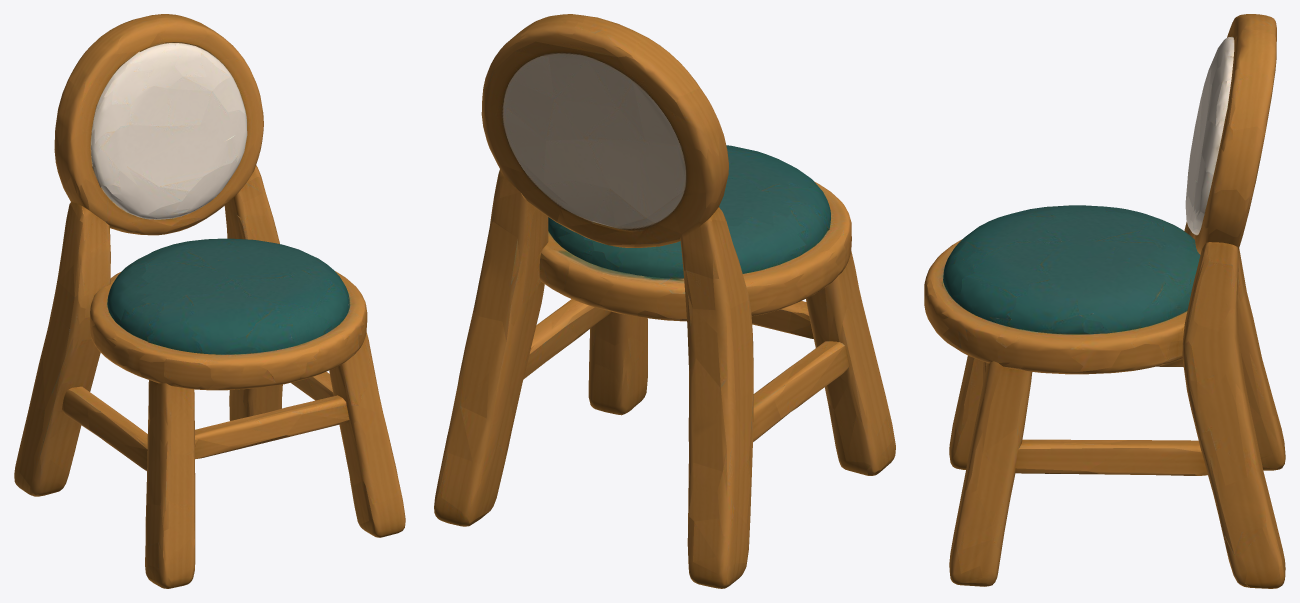
The model's file is banquetChair.glb.
3 views of the same model, side by side, from view 1: azimuth 30°, elevation 25°; view 2: azimuth 150°, elevation 25°; view 3: azimuth 270°, elevation 25° (orthographic). The views are drawn at different scales.
Parts seen in each view (by area): view 1: Mesh_0; view 2: Mesh_0; view 3: Mesh_0.
Boxes of the visible parts, bbox=[...] form: Mesh_0: bbox=[14, 14, 405, 588]; Mesh_0: bbox=[434, 14, 895, 588]; Mesh_0: bbox=[924, 14, 1285, 588].
Size of the model in its own units: 0.5846 by 1 by 0.6564.
Materials: 1 (1 with a texture image).
